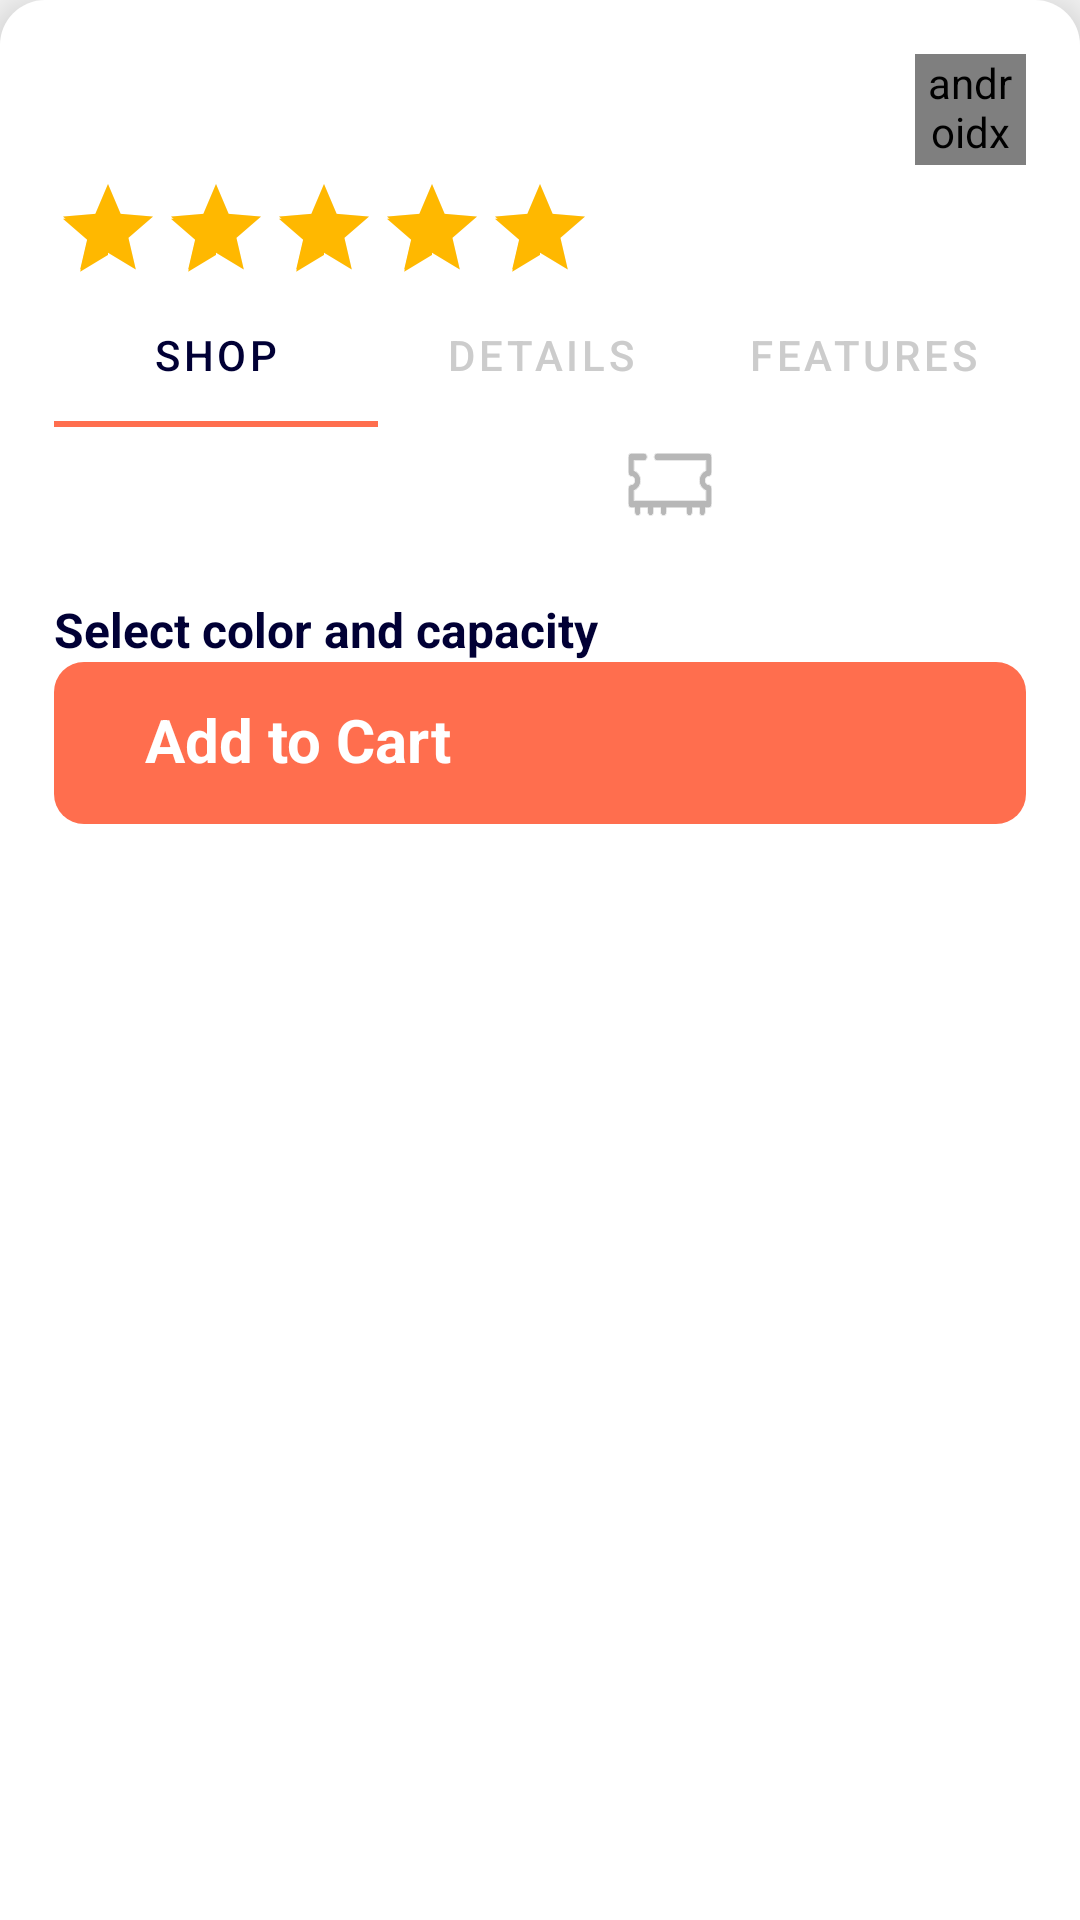

Where to tap for icons on this 1080×1920 app screen, as point (x, y):
ram: point (670, 484)
